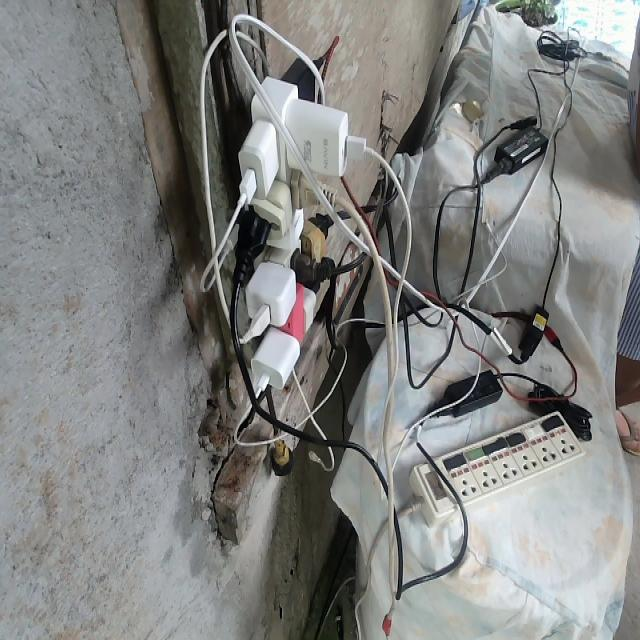-: (229, 72, 365, 388)
